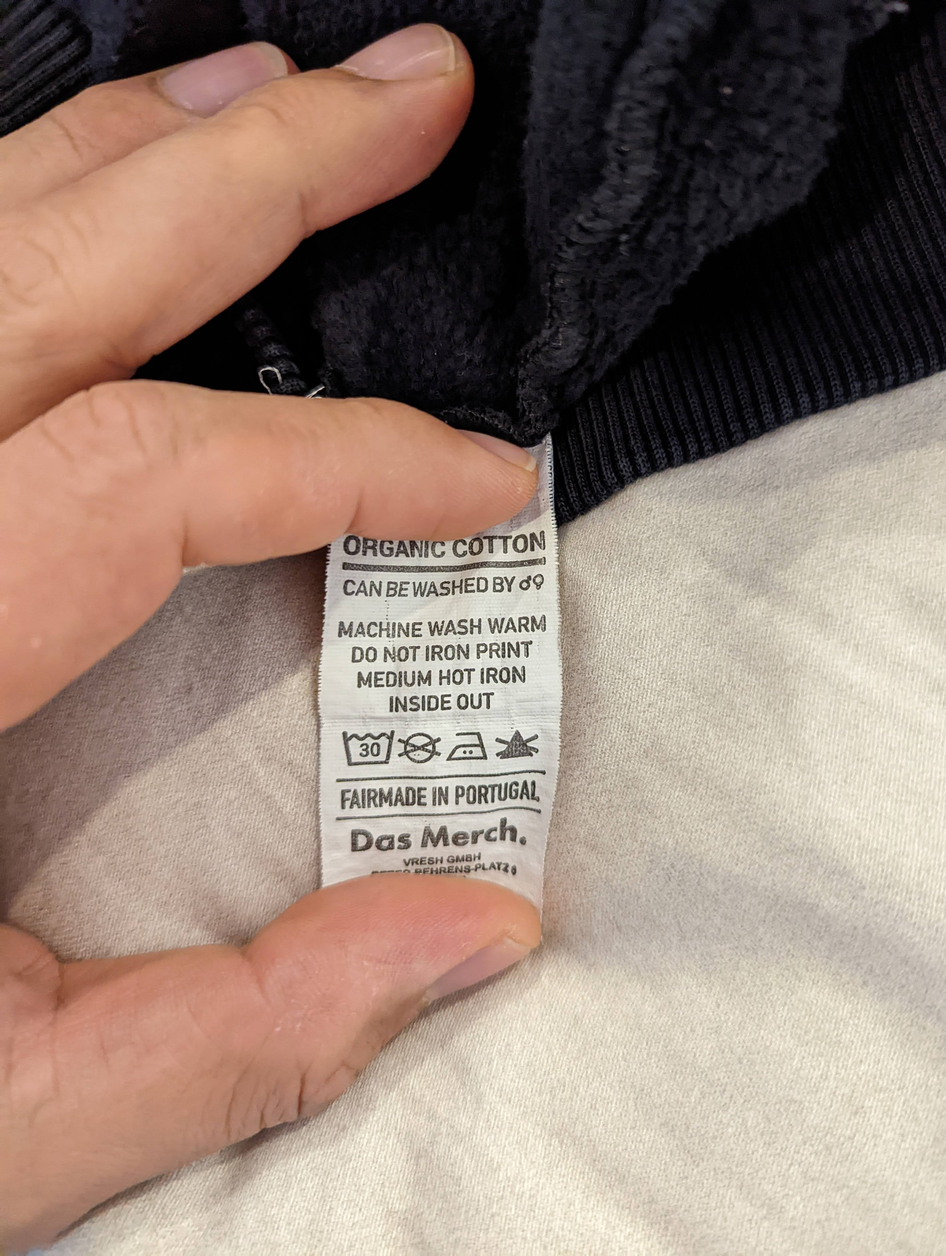ER_iron_medium_temp: (446, 729, 489, 764)
ER_no_bleach: (493, 725, 541, 760)
ER_no_dry_clean: (397, 727, 442, 766)
ER_wash_30: (339, 728, 396, 767)
